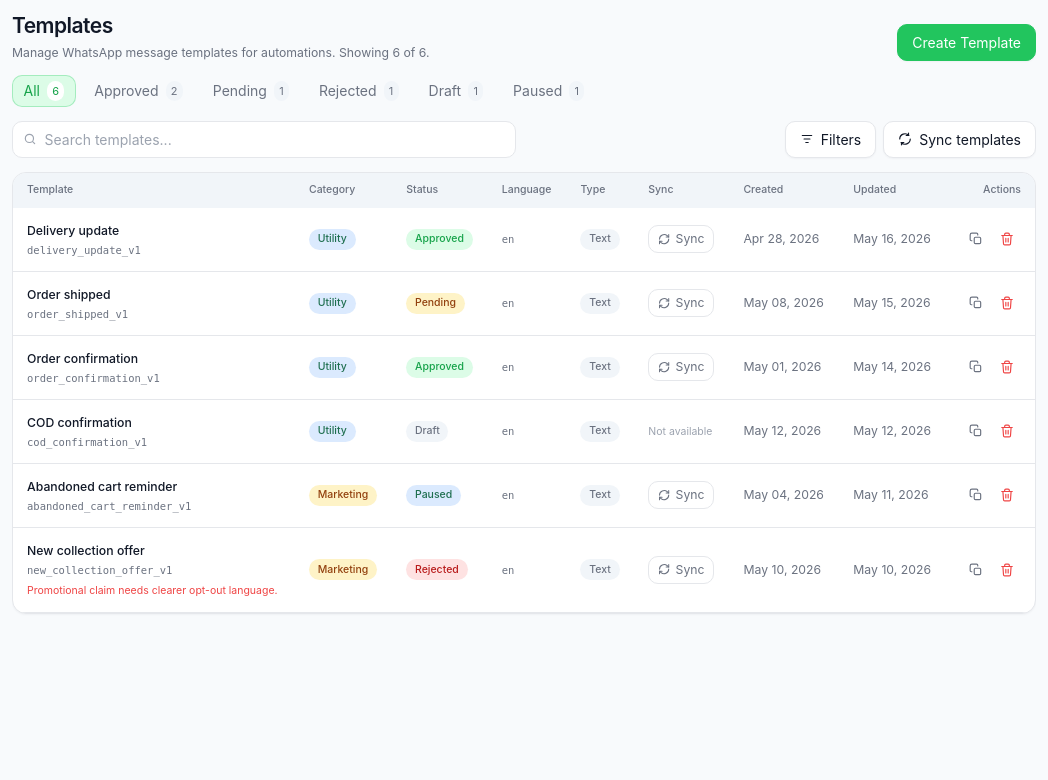
Test case: shows and dismisses a success notification after bulk sync
The image size is (1048, 780).
Click the button "Sync templates" at (960, 139), box [883,120,1036,158]
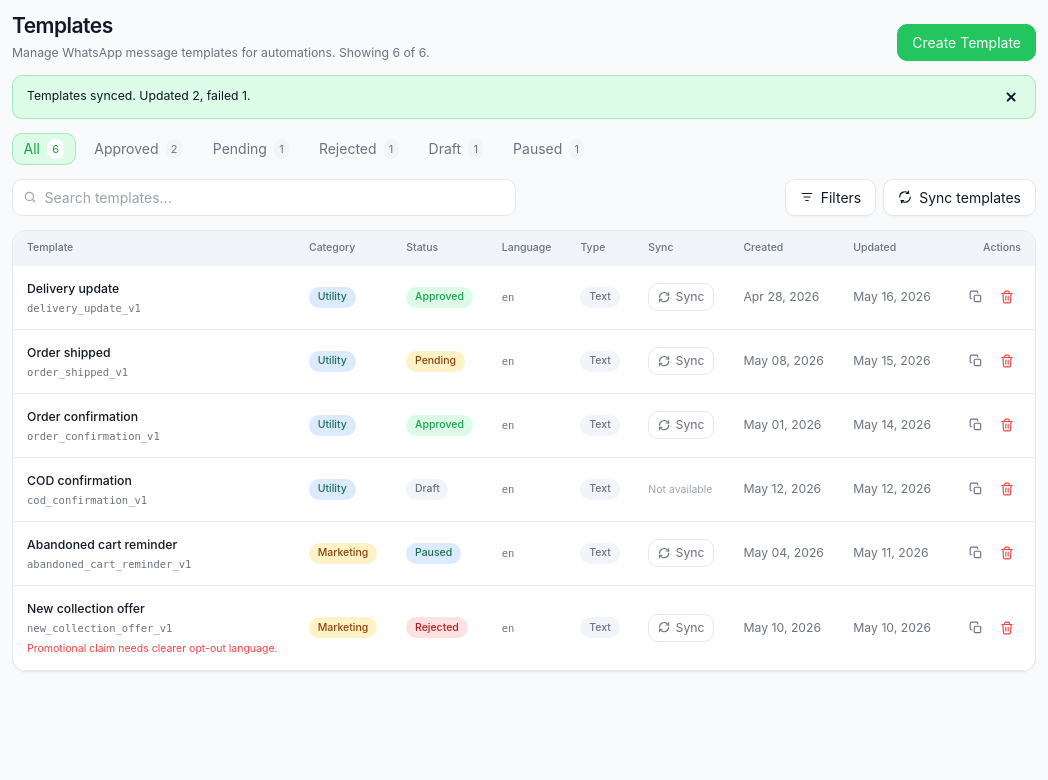
Expected: the message reads "Templates synced. Updated 2, failed 1.", [27,88,250,102]
Click the button named "Dismiss notification" at (1010, 97), box [1000,86,1021,108]
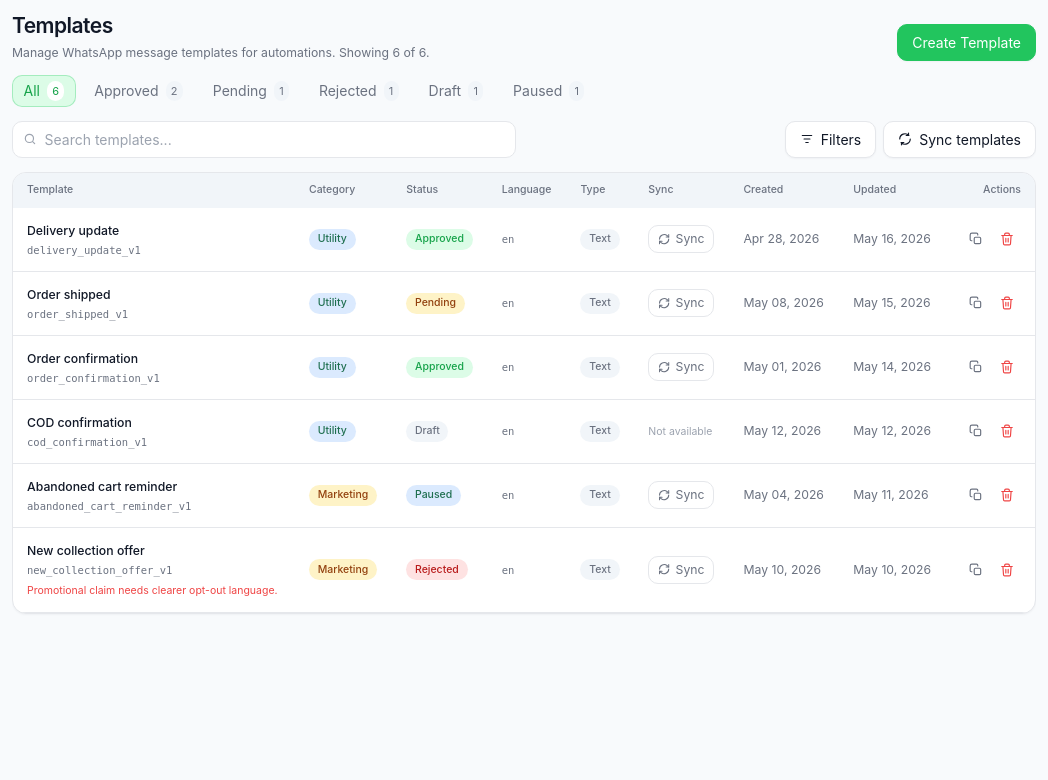
Expected: the text "Templates synced. Updated 2, failed 1." is gone
